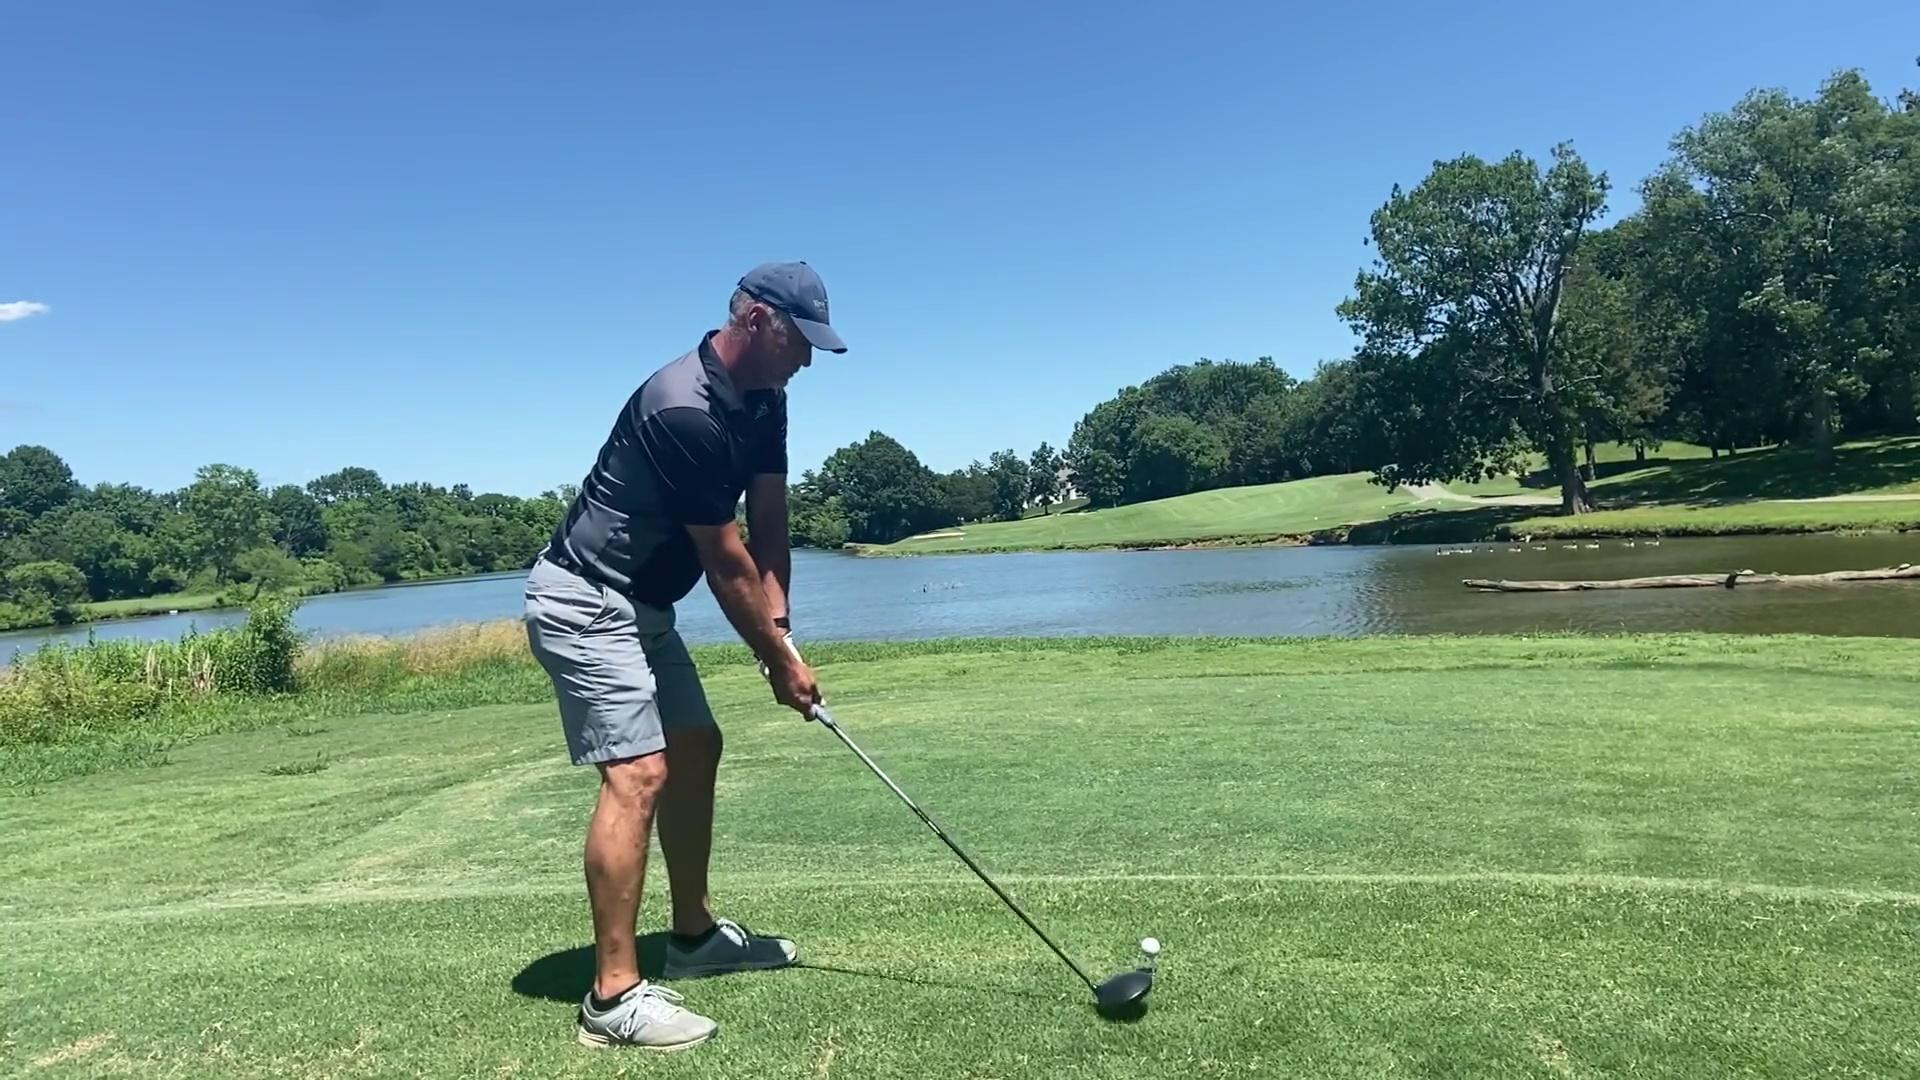ClubHead: (1084, 967, 1153, 1017)
GolfBall: (1139, 936, 1160, 957)
